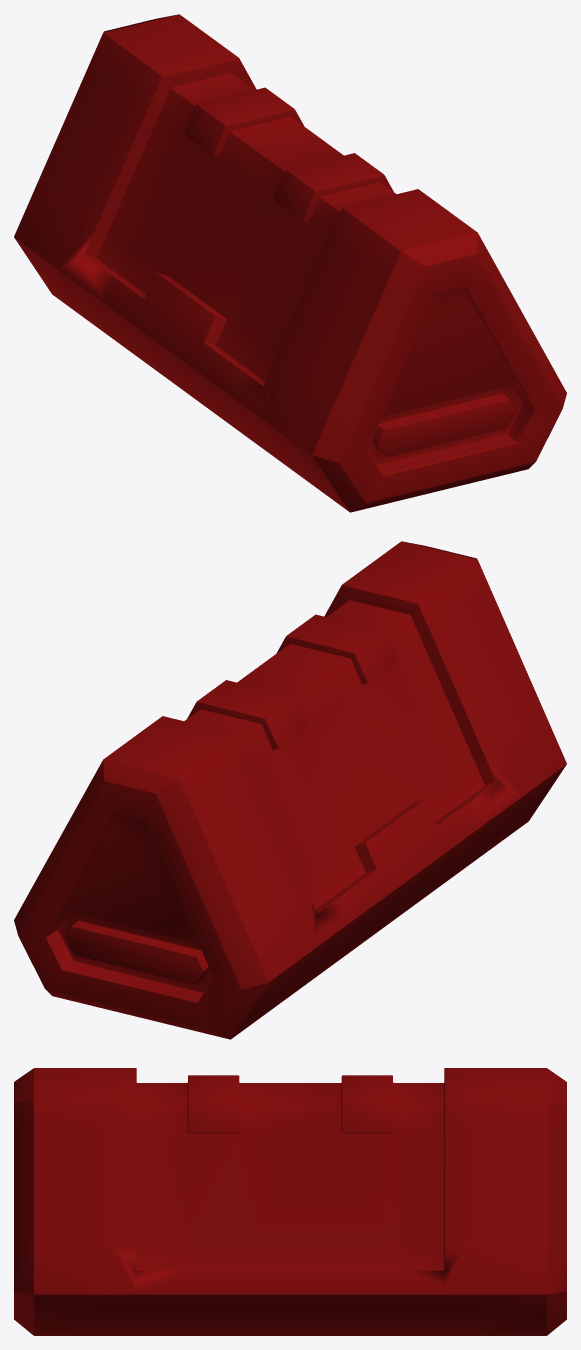
The model's file is FuelTank.fbx.
3 views of the same model, one above another, from view 1: azimuth 30°, elevation 25°; view 2: azimuth 150°, elevation 25°; view 3: azimuth 270°, elevation 25° (orthographic). The views are drawn at different scales.
Parts seen in each view (by area): view 1: Cylinder001; view 2: Cylinder001; view 3: Cylinder001.
Part boxes in pixels (left/top/right/bottom): Cylinder001: left=14, top=14, right=566, bottom=512; Cylinder001: left=14, top=541, right=566, bottom=1039; Cylinder001: left=14, top=1068, right=566, bottom=1335.
Bounding box in the file's own units: 502 × 469 × 1095.
